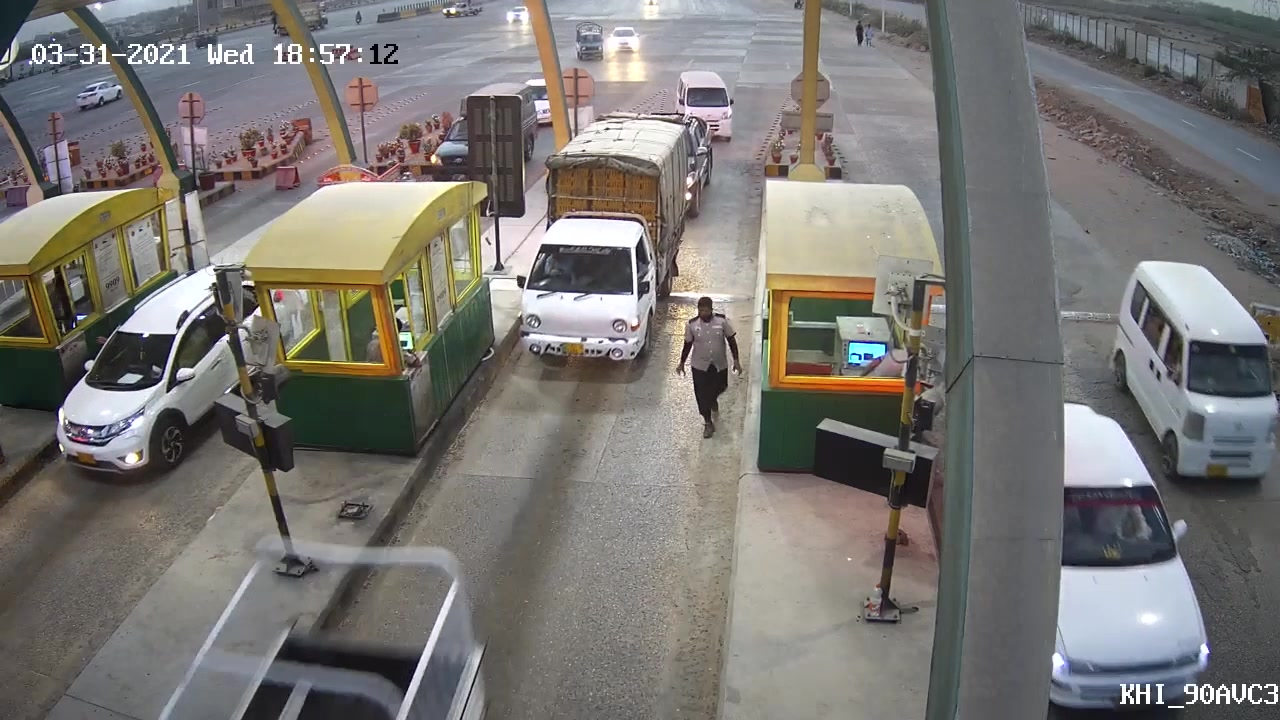F2: (507, 135, 668, 378)
